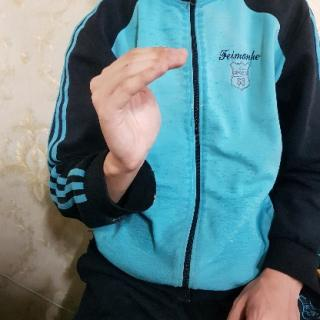HAA: (83, 42, 194, 178)
